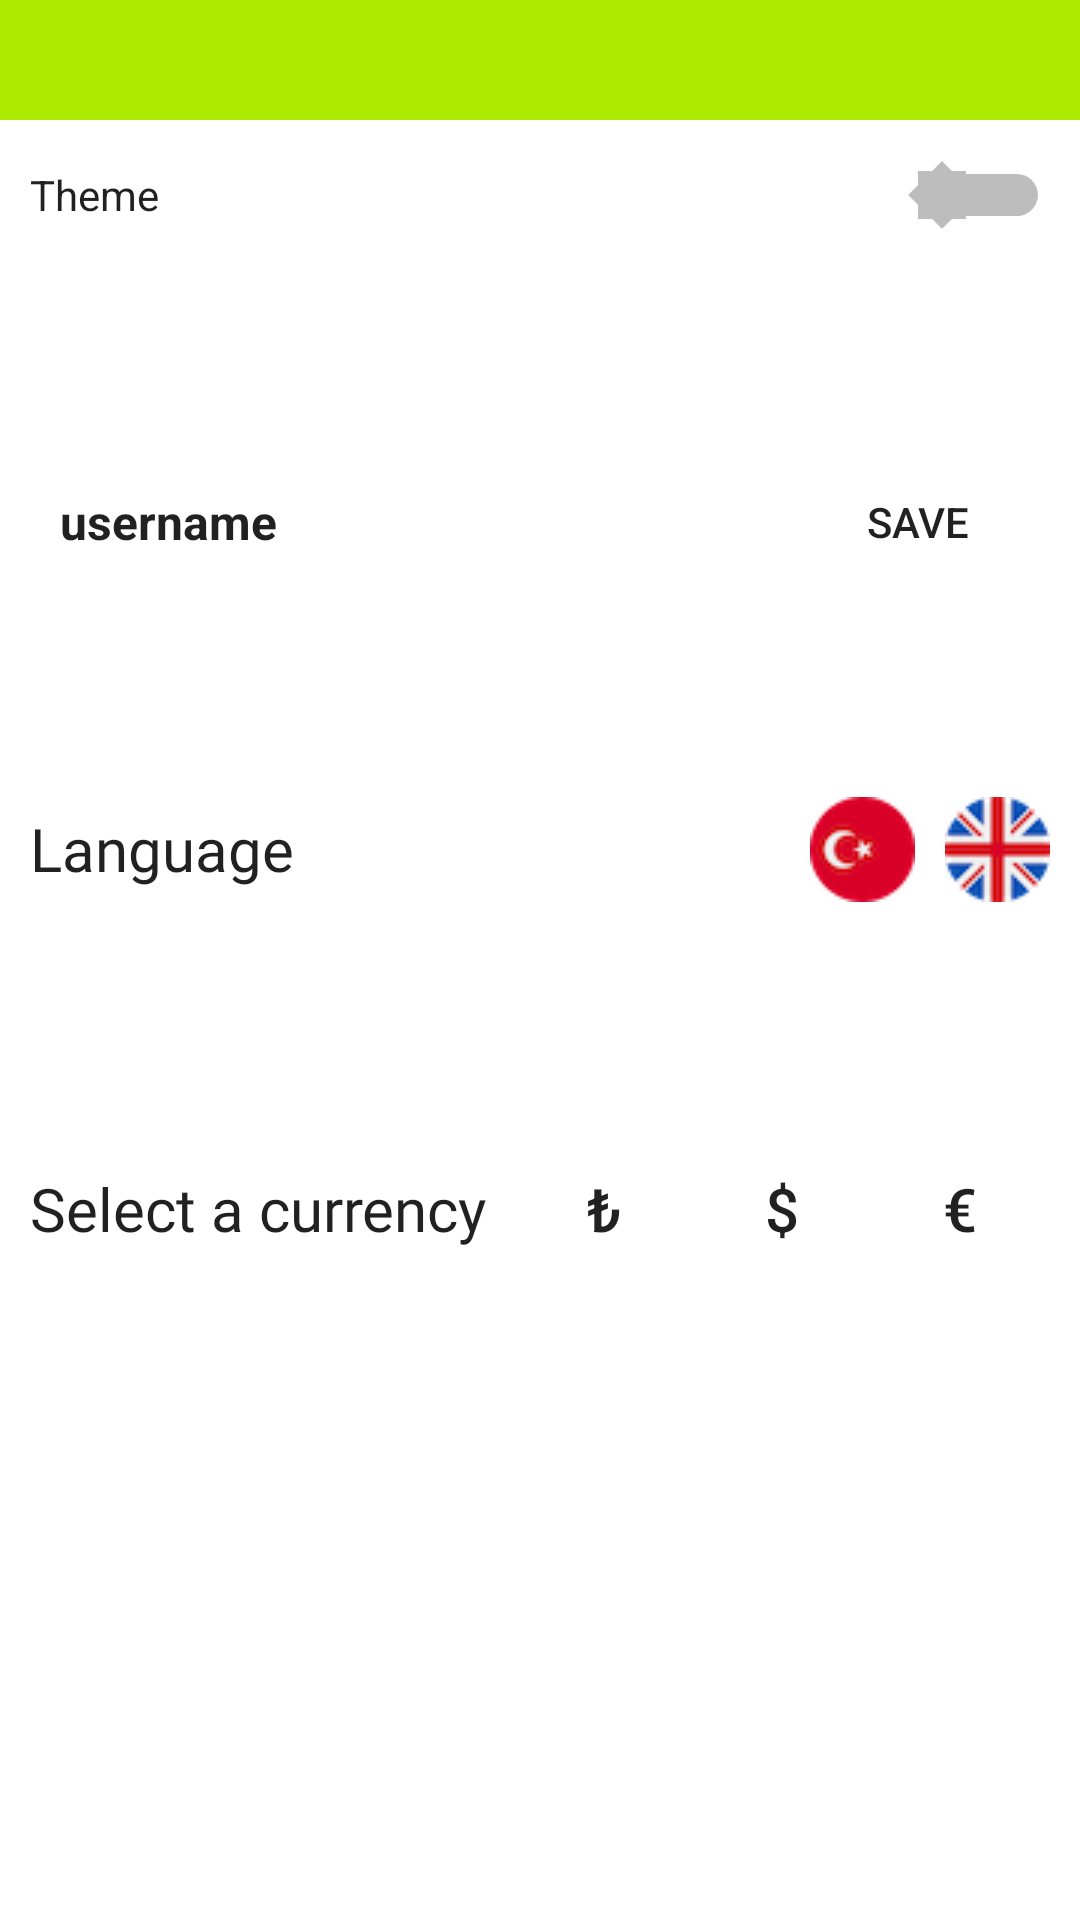

Point at icon controls on the screen. Image size 1080x1920, points as [x,y].
turkey: [862,849]
